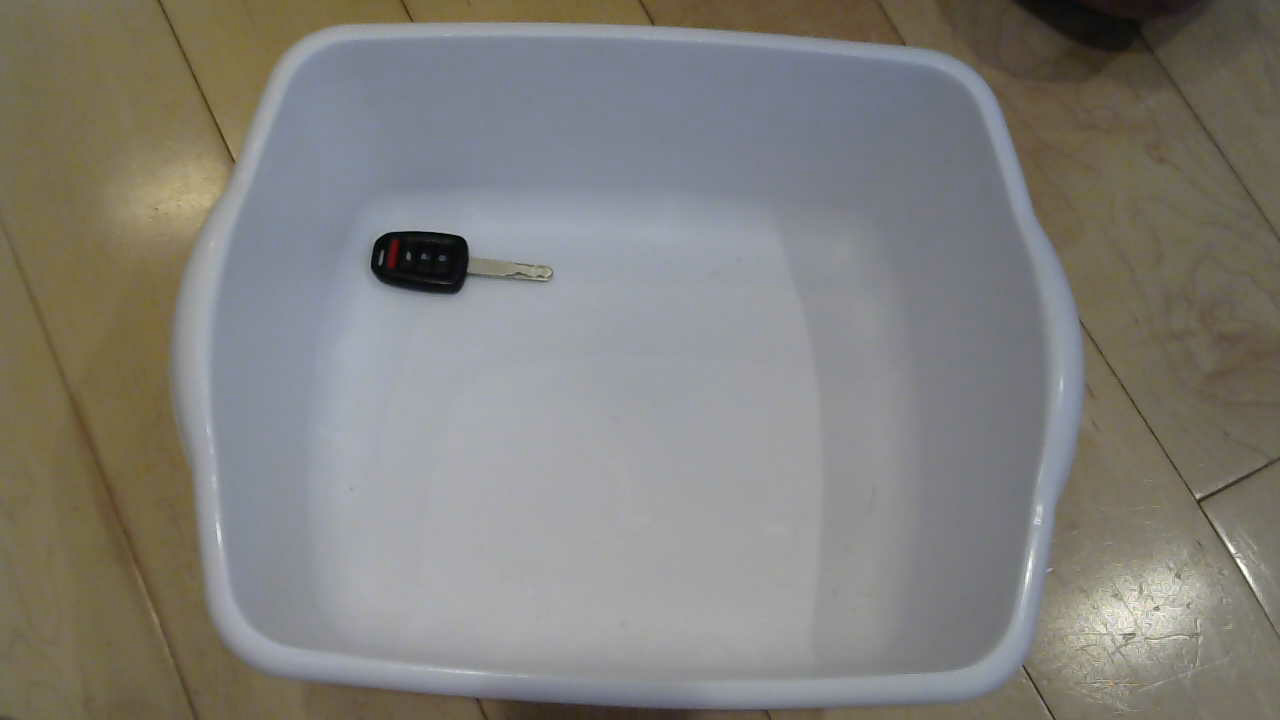key: (356, 223, 582, 319)
